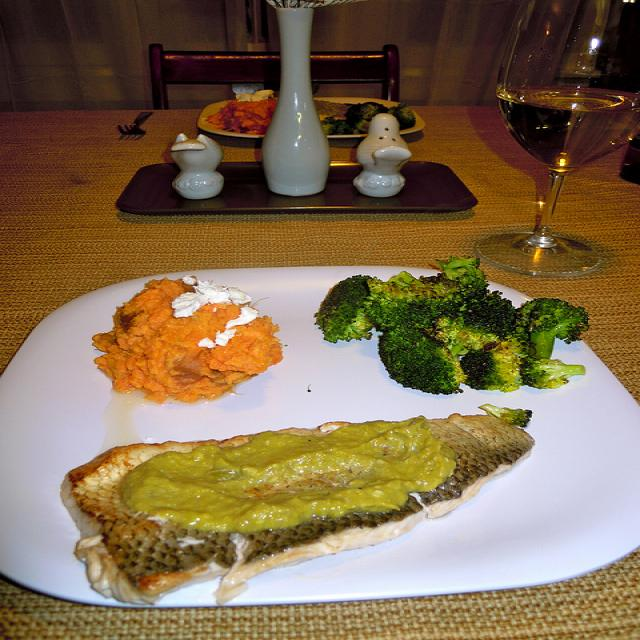chair: (147, 43, 401, 110)
dining table: (0, 99, 640, 633)
